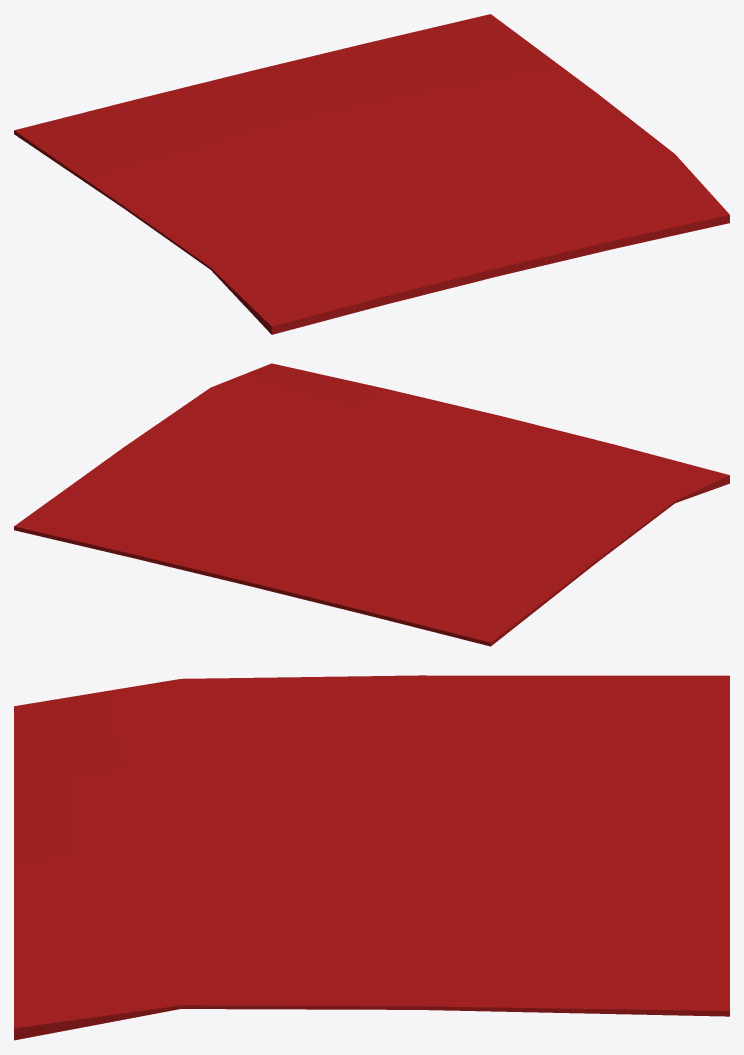
The model's file is apex_v8_bonnet.glb.
3 views of the same model, one above another, from view 1: azimuth 30°, elevation 25°; view 2: azimuth 150°, elevation 25°; view 3: azimuth 270°, elevation 25° (orthographic). The views are drawn at different scales.
Parts seen in each view (by area): view 1: apex_v8_bonnet; view 2: apex_v8_bonnet; view 3: apex_v8_bonnet.
Part boxes in pixels (x1,y1,x2,y2): apex_v8_bonnet: (14, 14, 729, 334); apex_v8_bonnet: (14, 363, 729, 646); apex_v8_bonnet: (14, 675, 729, 1040).
Size of the model in its own units: 1.51 by 0.0839 by 1.36.
